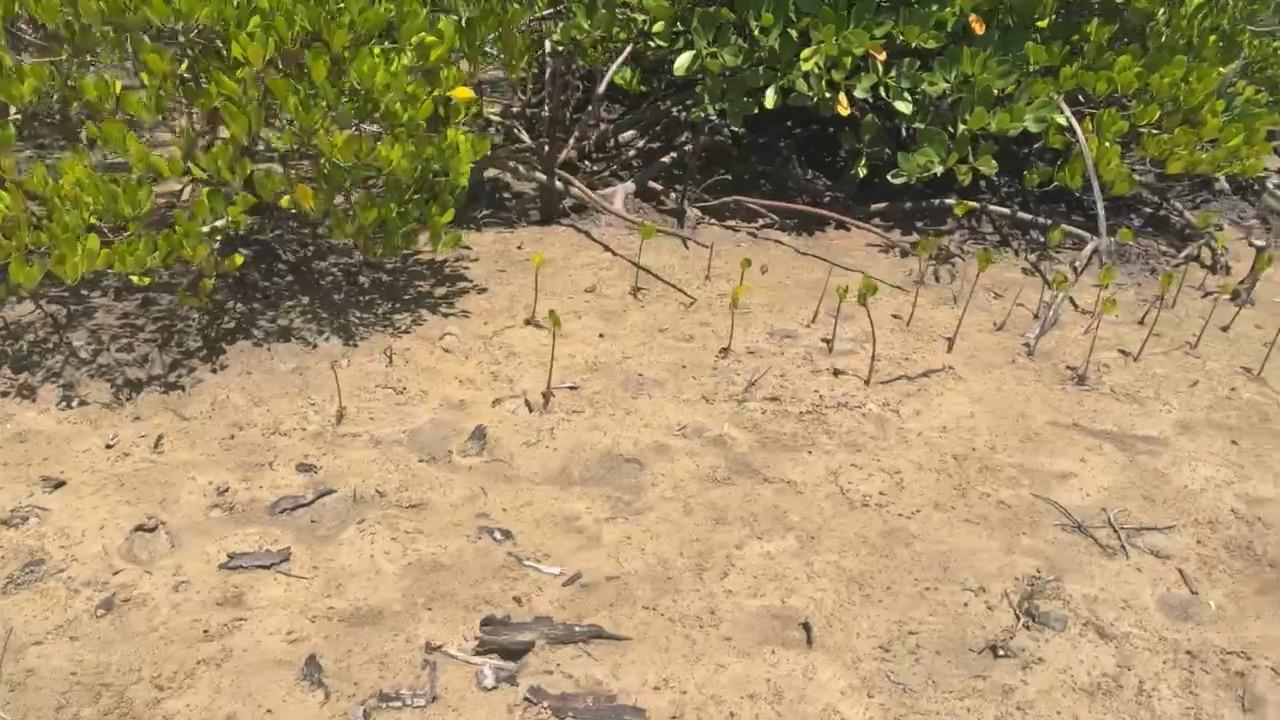Tree: (947, 247, 996, 352), (1170, 213, 1211, 309), (1134, 273, 1177, 364), (1224, 254, 1274, 332), (1081, 297, 1118, 380), (1033, 225, 1064, 320), (1032, 270, 1066, 356), (906, 237, 938, 327), (1193, 285, 1232, 349), (857, 272, 878, 387), (541, 309, 562, 408), (632, 221, 657, 297), (1197, 236, 1225, 289), (829, 284, 849, 352), (1089, 265, 1115, 317), (811, 266, 833, 322), (997, 287, 1023, 332), (1258, 329, 1280, 377), (727, 289, 743, 349), (531, 250, 545, 318), (331, 365, 343, 418), (738, 257, 753, 287), (1141, 298, 1159, 323), (705, 241, 716, 278), (1082, 313, 1098, 334)
